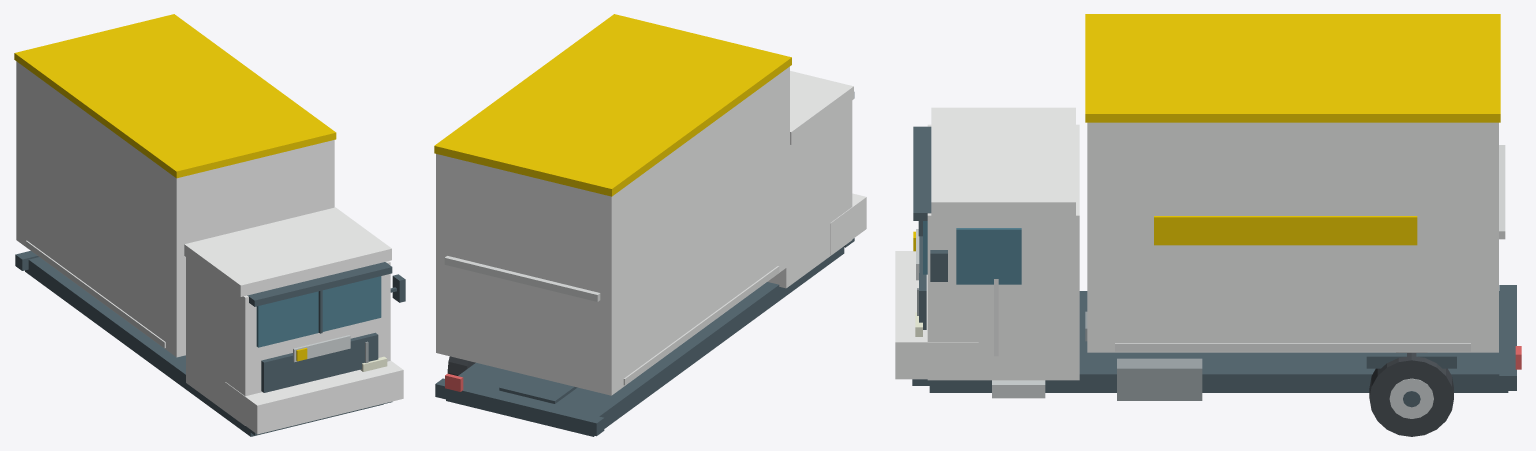
File: zazohan_yh10.glb
The picture shows the model from 3 angles, left to right: view 1: azimuth 30°, elevation 25°; view 2: azimuth 150°, elevation 25°; view 3: azimuth 270°, elevation 25°; orthographic projection. The views are drawn at different scales.
Parts seen in each view (by area): view 1: cargo_body, cargo_roof_trim, cab_roof, cab, front_lower, windshield, chassis, grille, sun_visor, cargo_lower_trim, logo_plate; view 2: cargo_body, cargo_roof_trim, cab, chassis, rear_bumper, cab_roof, rear_door, rear_diff, front_lower, cargo_lower_trim; view 3: cargo_body, cargo_roof_trim, cab, cab_roof, chassis, side_brand, front_lower, tire, side_window, tank, cargo_lower_trim, rear_bumper (+5 smaller).
Boxes of the visible parts, x1,y1,x2,y2 form: cargo_body: [16, 61, 334, 357]; cargo_roof_trim: [14, 14, 336, 178]; cab_roof: [184, 207, 391, 296]; cab: [186, 257, 390, 425]; front_lower: [225, 361, 403, 434]; windshield: [256, 276, 381, 347]; chassis: [25, 257, 383, 436]; grille: [261, 332, 378, 392]; sun_visor: [247, 262, 392, 306]; cargo_lower_trim: [25, 240, 165, 348]; logo_plate: [293, 335, 350, 362]; cargo_body: [436, 66, 789, 395]; cargo_roof_trim: [434, 14, 791, 196]; cab: [767, 100, 852, 288]; chassis: [446, 247, 844, 436]; rear_bumper: [435, 378, 604, 436]; cab_roof: [790, 71, 853, 144]; rear_door: [444, 256, 600, 301]; rear_diff: [499, 373, 577, 403]; front_lower: [830, 193, 866, 255]; cargo_lower_trim: [623, 266, 779, 385]; cargo_body: [1087, 122, 1498, 352]; cargo_roof_trim: [1085, 14, 1500, 122]; cab: [927, 124, 1079, 380]; cab_roof: [931, 107, 1075, 217]; chassis: [929, 291, 1508, 392]; side_brand: [1154, 216, 1417, 245]; front_lower: [895, 251, 978, 379]; tire: [1369, 352, 1453, 436]; side_window: [956, 228, 1021, 284]; tank: [1117, 358, 1202, 400]; cargo_lower_trim: [1115, 343, 1470, 351]; rear_bumper: [1499, 285, 1516, 390].
Bounding box in the file's own units: 3.37 × 4.74 × 8.44.
